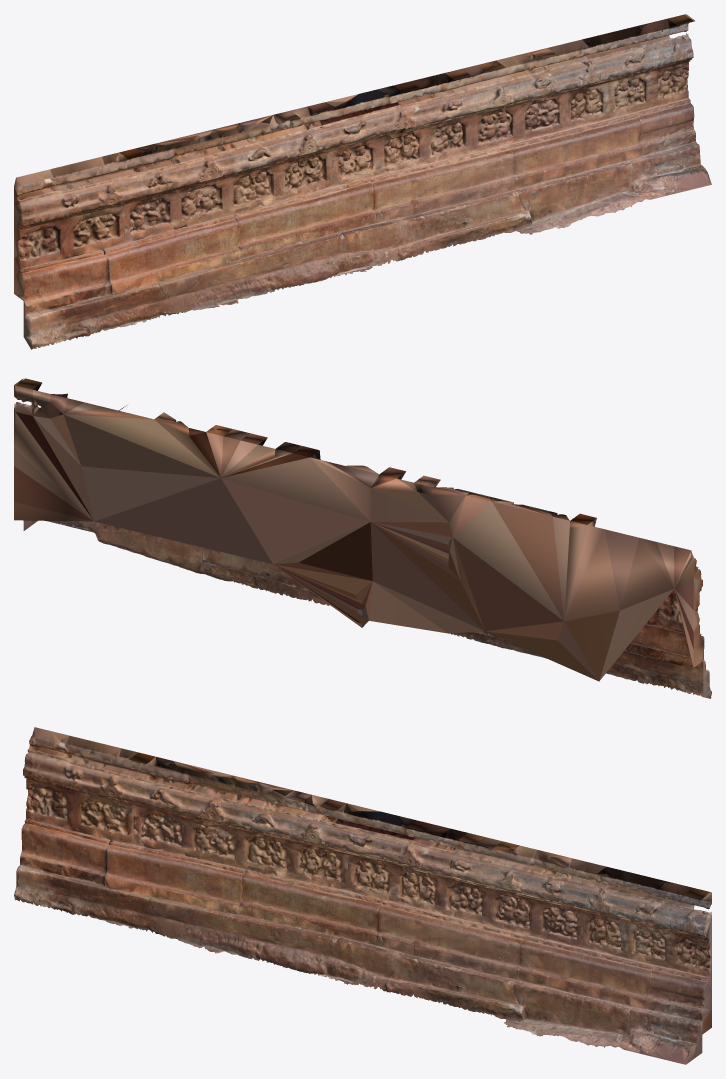
File: platform.glb
3 views of the same model, one above another, from view 1: azimuth 30°, elevation 25°; view 2: azimuth 150°, elevation 25°; view 3: azimuth 330°, elevation 25° (orthographic).
Parts seen in each view (by area): view 1: Object_2, Object_3; view 2: Object_2, Object_3; view 3: Object_2, Object_3.
Boxes of the visible parts, x1=… form: Object_2: x1=14, y1=14, x2=711, y2=349; Object_3: x1=69, y1=54, x2=710, y2=333; Object_2: x1=14, y1=378, x2=711, y2=698; Object_3: x1=14, y1=412, x2=700, y2=683; Object_2: x1=14, y1=727, x2=711, y2=1064; Object_3: x1=77, y1=758, x2=711, y2=1064.
Bounding box in the file's own units: 42.59 × 9.66 × 2.83.
Materials: 1 (1 with a texture image).
